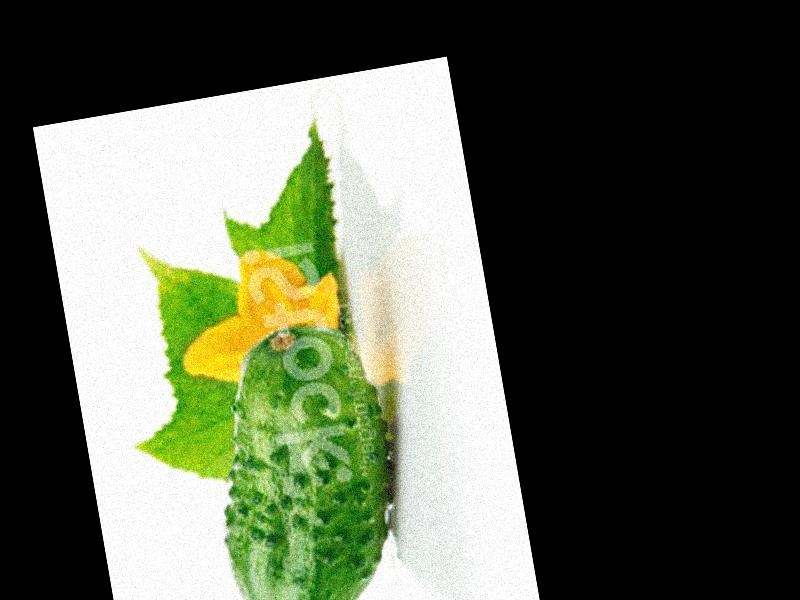Cucumber: (192, 318, 415, 600)
